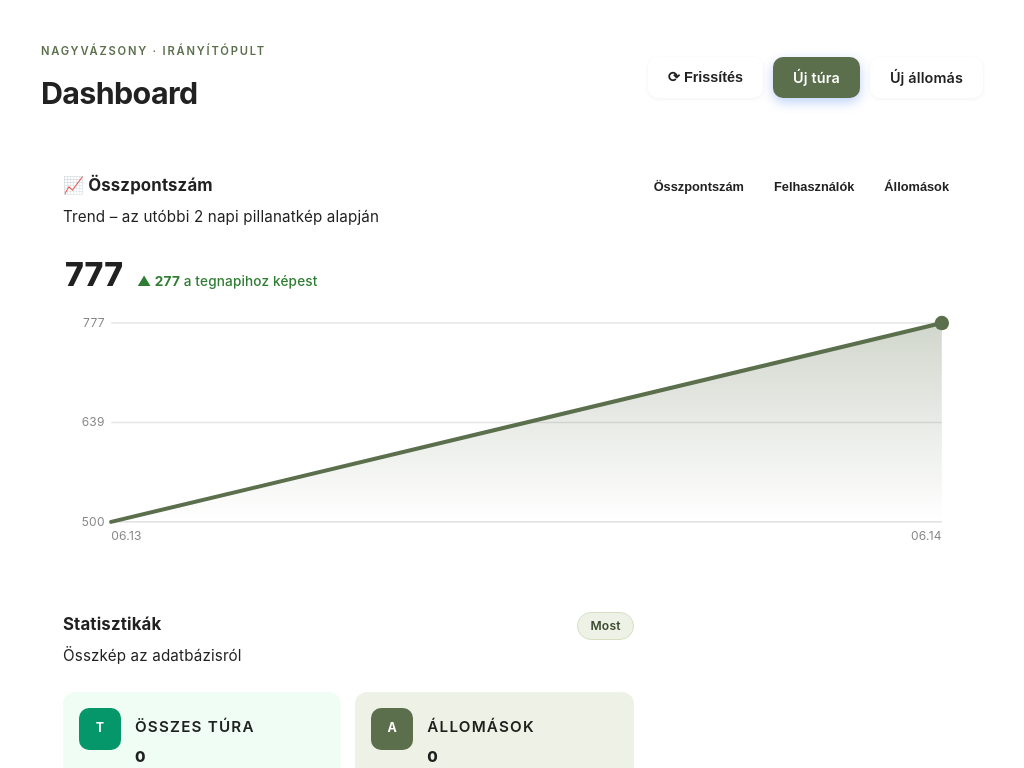
Test: Dashboard › renders the trend with the latest snapshot value and switches metric
The image size is (1024, 768).
Expected: the heading "📈 Összpontszám" is shown, x1=63 y1=175 x2=213 y2=195
Expected: the text "777" is shown, x1=65 y1=259 x2=123 y2=291
Switching to the "Felhasználók" metric shows its latest value (9).
Click the button "Felhasználók".
click(814, 186)  # box x1=762 y1=173 x2=866 y2=200
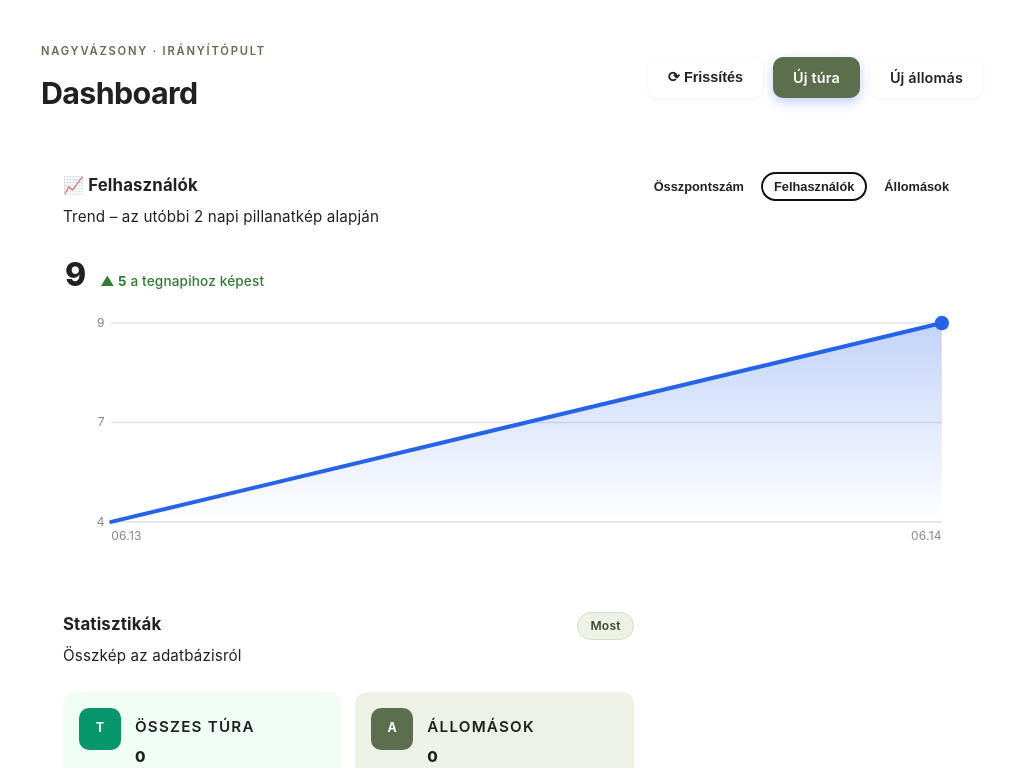
Now the text "9" is shown, box x1=65 y1=259 x2=86 y2=291
